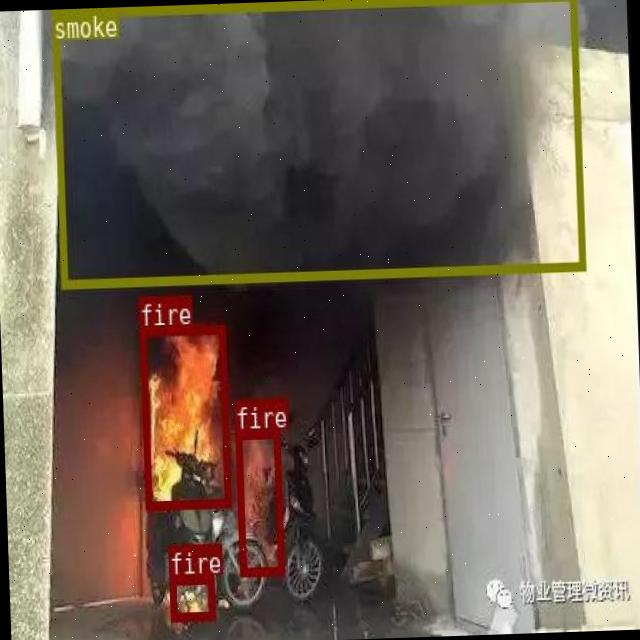fire: (138, 323, 229, 508), (235, 429, 282, 574), (168, 572, 215, 620)
smoke: (50, 0, 583, 287)
